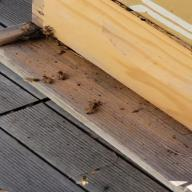Bee: (79, 94, 113, 118), (17, 75, 45, 86)
